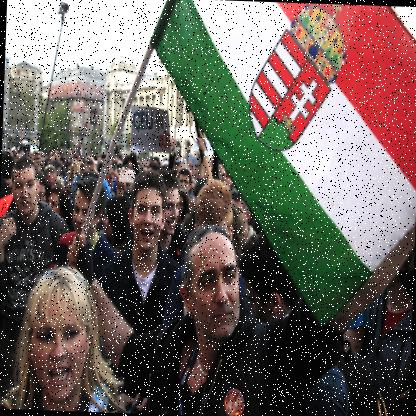hu: (144, 1, 416, 333)
